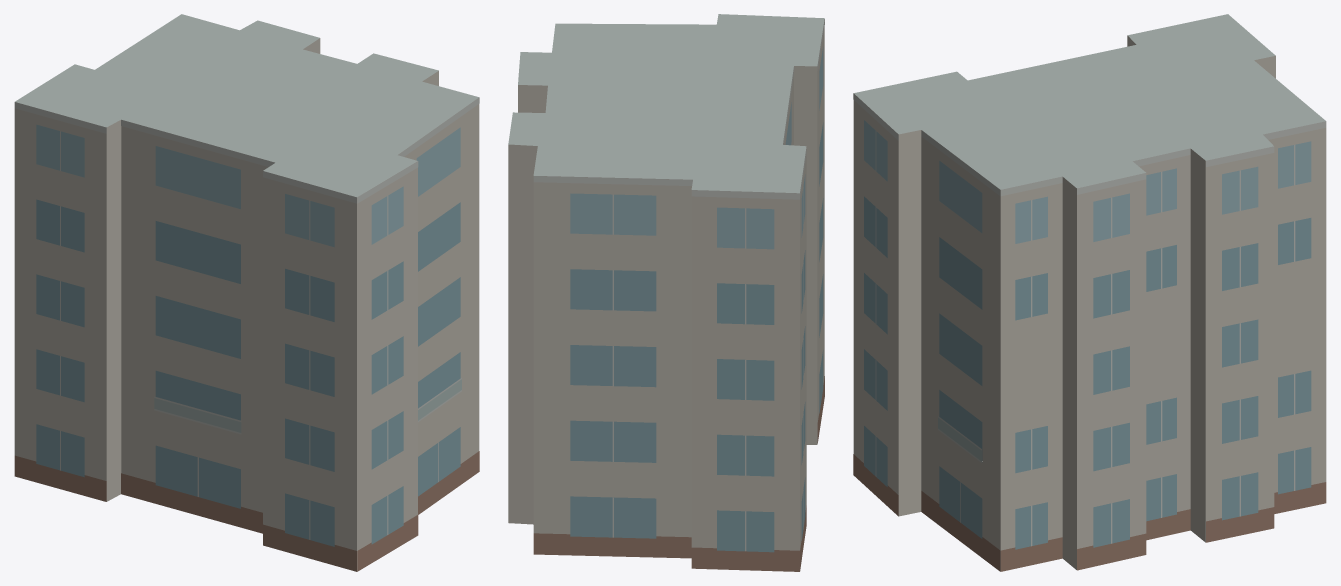
File: survey-upis-32932618.glb
The picture shows the model from 3 angles, left to right: view 1: azimuth 30°, elevation 25°; view 2: azimuth 150°, elevation 25°; view 3: azimuth 270°, elevation 25°; orthographic projection. The views are drawn at different scales.
Visible parts, largest first — view 1: survey-upis-32932618.tmp; view 2: survey-upis-32932618.tmp; view 3: survey-upis-32932618.tmp.
Part boxes in pixels (bbox=[...]): survey-upis-32932618.tmp: bbox=[14, 14, 479, 571]; survey-upis-32932618.tmp: bbox=[508, 14, 824, 571]; survey-upis-32932618.tmp: bbox=[853, 14, 1326, 571].
Size of the model in its own units: 14.13 by 14.3 by 16.05.
